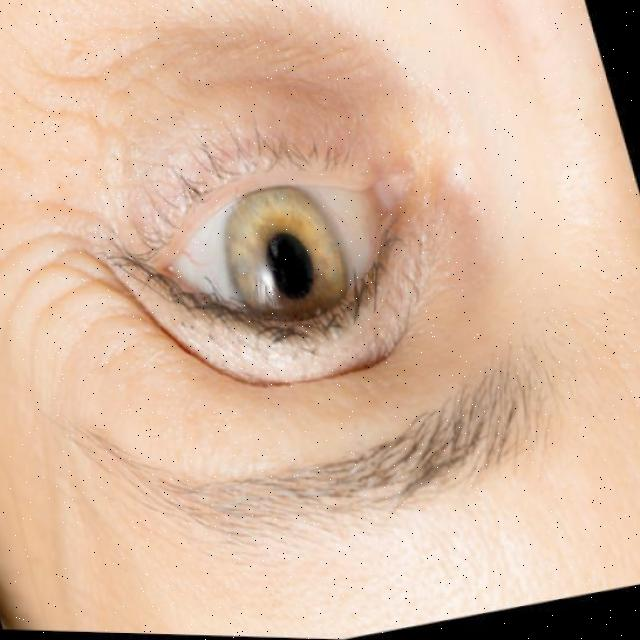puffy_eyes: (123, 35, 425, 207)
